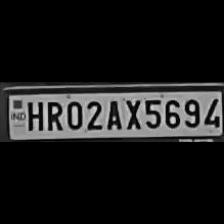0: (64, 98, 82, 130)
2: (83, 98, 103, 130)
4: (201, 94, 221, 128)
5: (140, 96, 160, 128)
6: (162, 96, 180, 128)
9: (181, 96, 199, 128)
A: (103, 96, 123, 130)
H: (24, 99, 42, 131)
R: (43, 98, 62, 132)
X: (122, 96, 142, 130)
